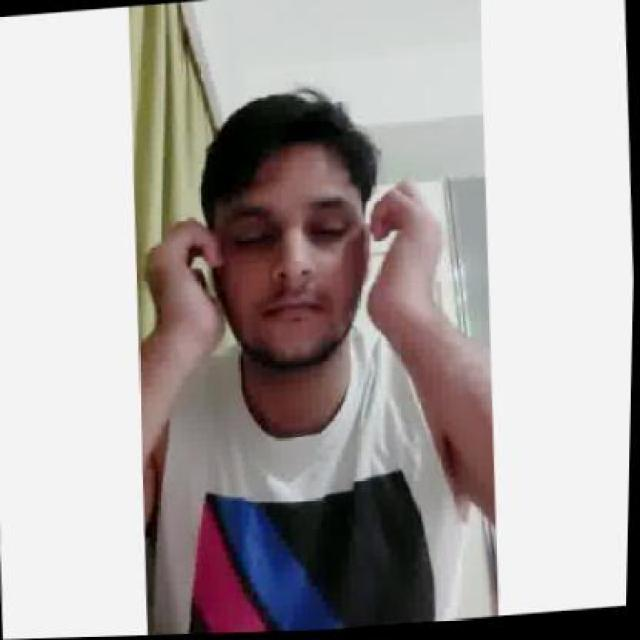inattentif: (196, 88, 381, 378)
